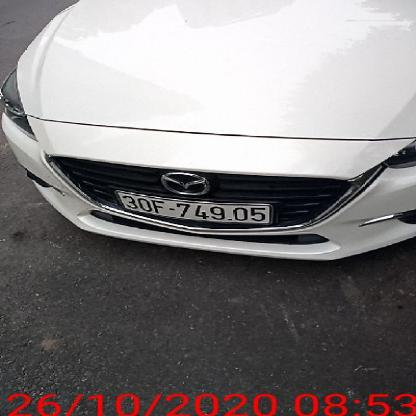biensoxe: (116, 188, 272, 228)
